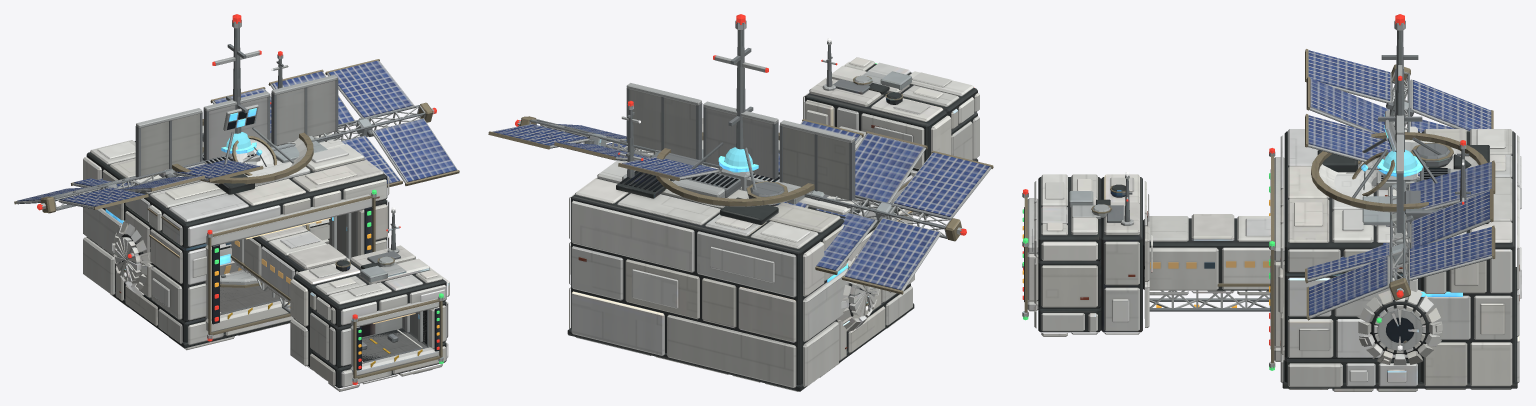
File: base_modules.glb
3 renders of one model, left to right at view 1: azimuth 30°, elevation 25°; view 2: azimuth 150°, elevation 25°; view 3: azimuth 270°, elevation 25°, orthographic. The views are drawn at different scales.
Visible parts, largest first — view 1: Mod_HangarBay, Mod_DockArm, Mod_SolarArray, Mod_Radiator, Mod_HabModule, Mod_CommArray, Mod_ShieldGenerator, Mod_TurretHeavy; view 2: Mod_HangarBay, Mod_SolarArray, Mod_Radiator, Mod_DockArm, Mod_ShieldGenerator, Mod_CommArray, Mod_HabModule; view 3: Mod_HangarBay, Mod_DockArm, Mod_SolarArray, Mod_HabModule, Mod_ShieldGenerator, Mod_CommArray, Mod_Radiator.
Boxes of the visible parts, bbox=[...] form: Mod_HangarBay: bbox=[83, 51, 389, 350]; Mod_DockArm: bbox=[229, 207, 449, 391]; Mod_SolarArray: bbox=[14, 59, 459, 213]; Mod_Radiator: bbox=[130, 75, 343, 192]; Mod_HabModule: bbox=[112, 219, 329, 295]; Mod_CommArray: bbox=[212, 14, 276, 175]; Mod_ShieldGenerator: bbox=[172, 119, 313, 185]; Mod_TurretHeavy: bbox=[220, 268, 264, 287]; Mod_HangarBay: bbox=[567, 100, 914, 391]; Mod_SolarArray: bbox=[488, 116, 993, 294]; Mod_Radiator: bbox=[621, 83, 861, 213]; Mod_DockArm: bbox=[803, 38, 979, 218]; Mod_ShieldGenerator: bbox=[656, 132, 814, 207]; Mod_CommArray: bbox=[713, 14, 768, 149]; Mod_HabModule: bbox=[837, 254, 879, 331]; Mod_HangarBay: bbox=[1269, 126, 1521, 391]; Mod_DockArm: bbox=[1022, 172, 1270, 336]; Mod_SolarArray: bbox=[1305, 49, 1495, 320]; Mod_HabModule: bbox=[1357, 289, 1442, 365]; Mod_ShieldGenerator: bbox=[1311, 132, 1487, 212]; Mod_CommArray: bbox=[1352, 14, 1422, 196]; Mod_Radiator: bbox=[1391, 60, 1409, 244].
Bounding box in the file's own units: 51.12 × 33.93 × 47.59.
Materials: 3 (2 with a texture image).
